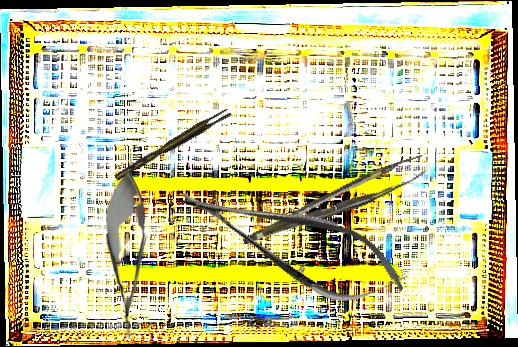Micro Scissor: (168, 159, 417, 325), (104, 170, 150, 340)
Tissue Forceps: (235, 154, 432, 245), (111, 107, 234, 181)
